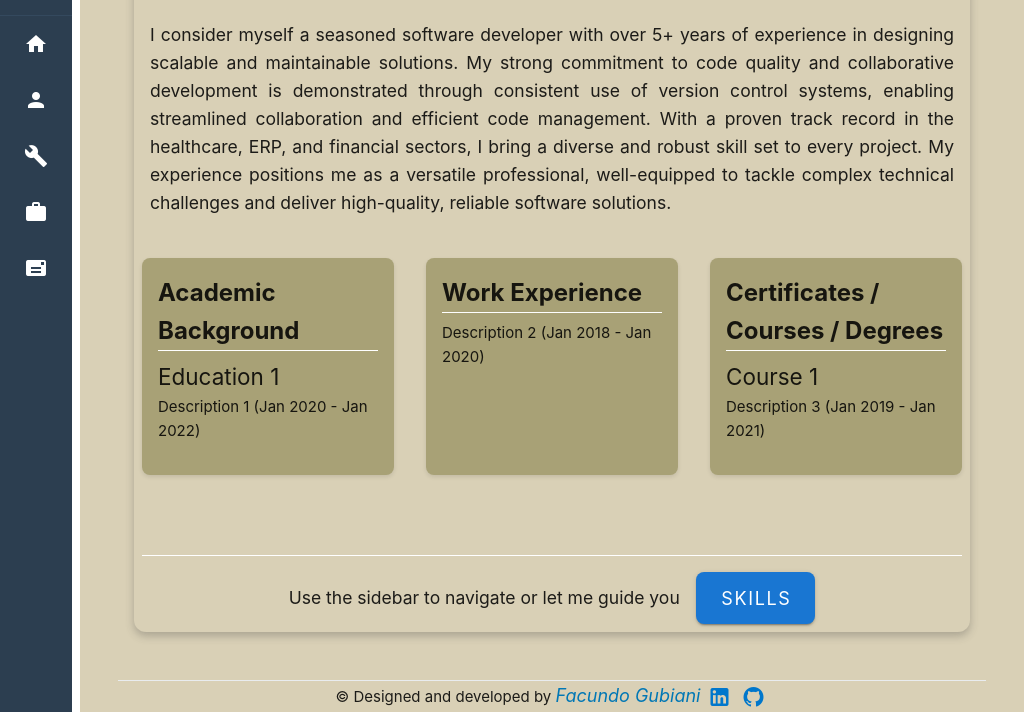
Test case: About Page › should navigate to the Skills page when the navigation button is clicked
(page scrolled)
Click the button "Skills" at (756, 598), box [696,572,816,624]
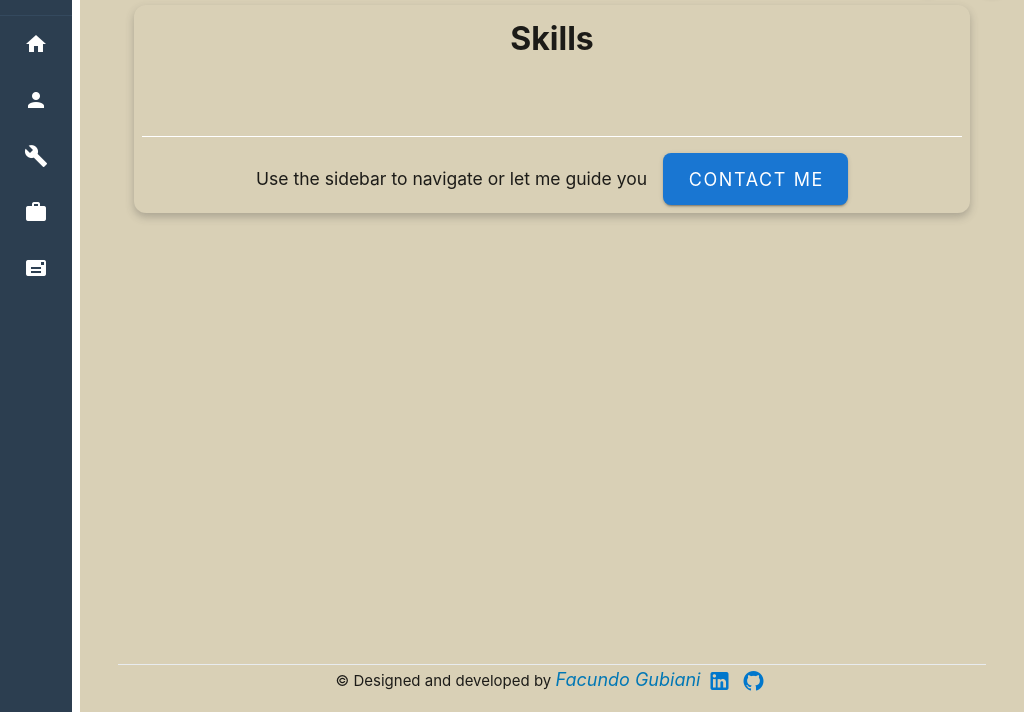
Result: the element with class "skills-container" is shown at [134,5,970,213]
